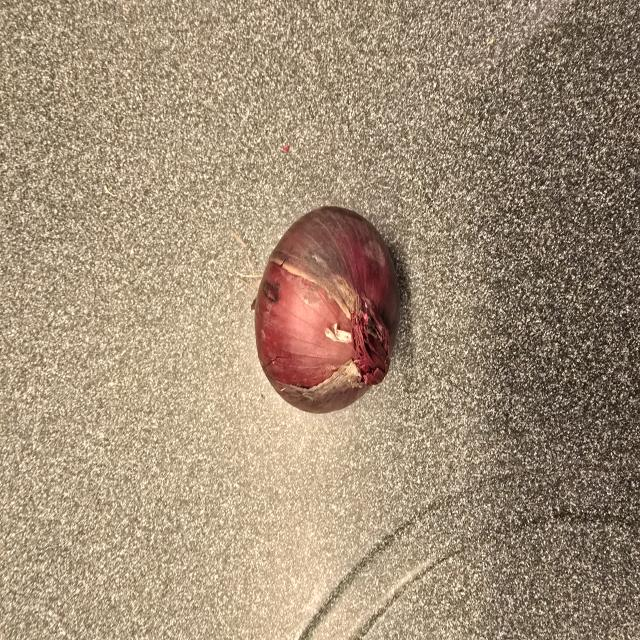Onion: (252, 207, 399, 413)
